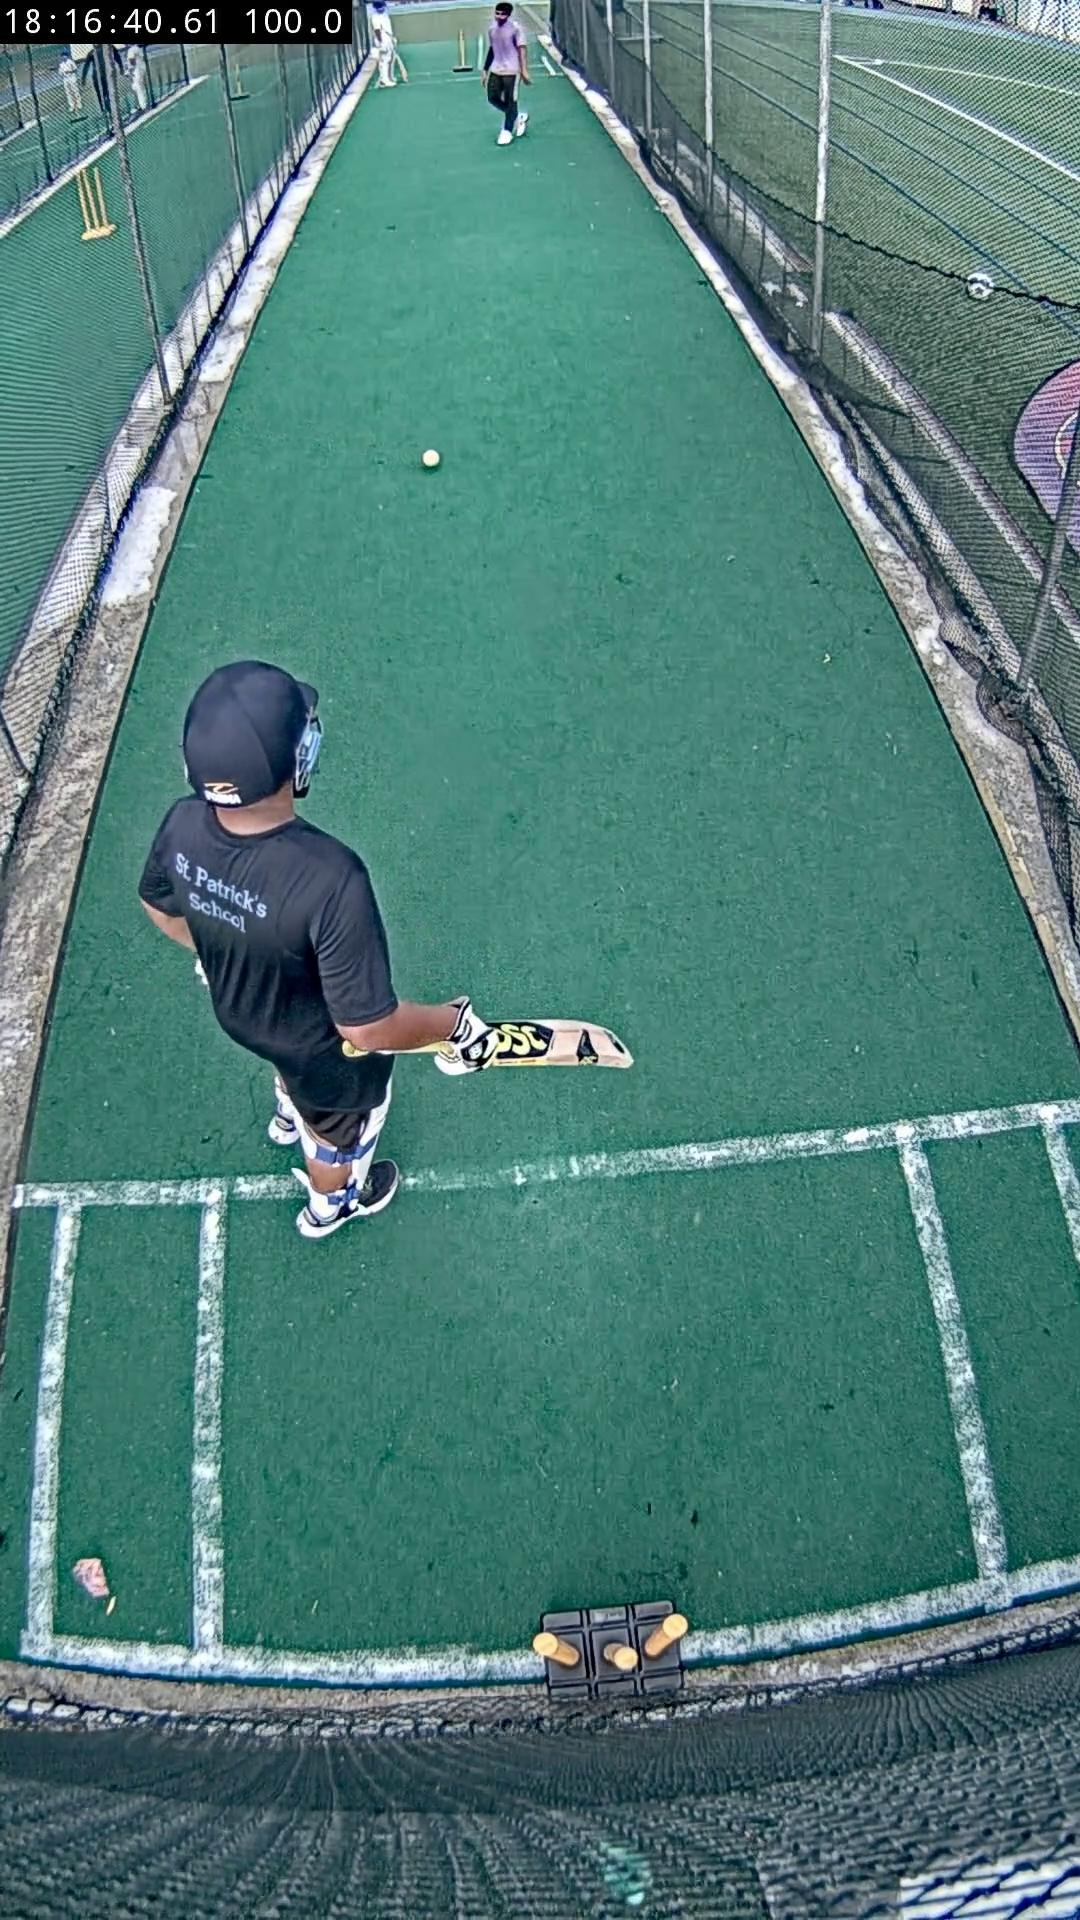ball: (419, 450, 443, 467)
bat: (435, 1021, 634, 1072)
helmet: (183, 659, 323, 806)
stumps: (533, 1601, 686, 1698)
